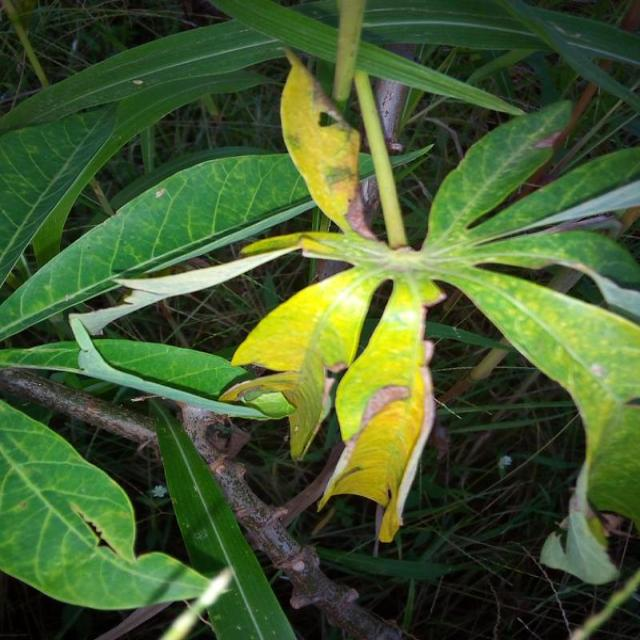cassava leaf: (1, 1, 638, 630), (0, 148, 318, 342), (0, 397, 227, 611), (316, 269, 439, 543), (278, 46, 362, 233)
